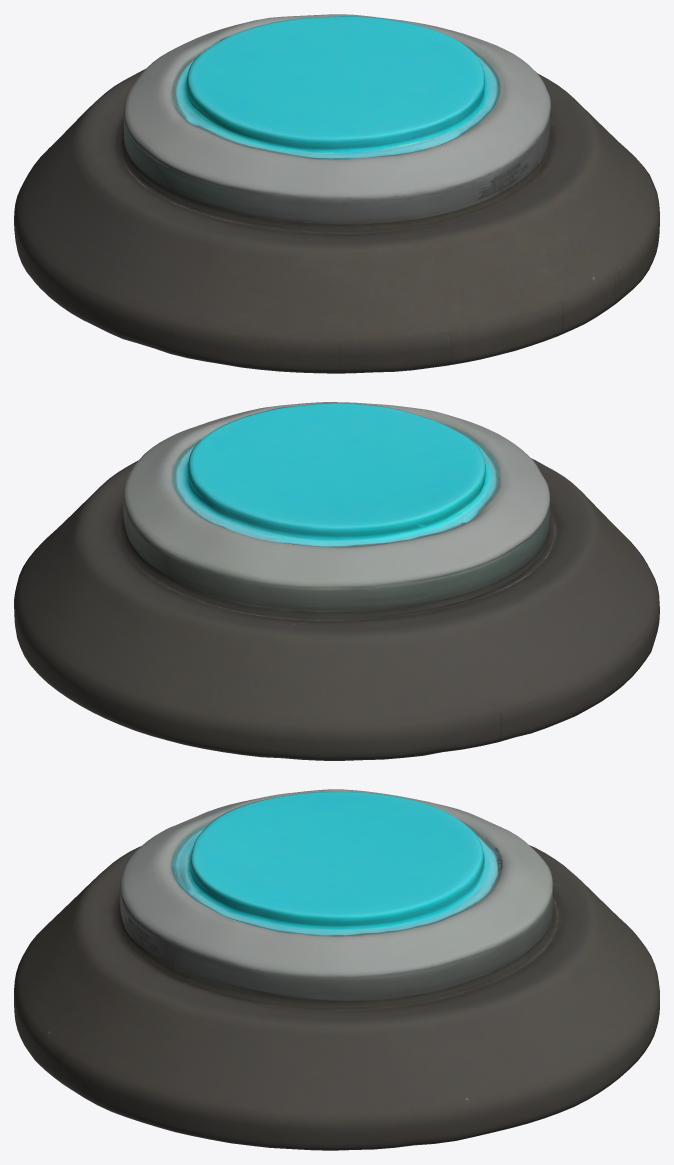
File: Button_0802003048_texture.fbx
3 views of the same model, one above another, from view 1: azimuth 30°, elevation 25°; view 2: azimuth 150°, elevation 25°; view 3: azimuth 270°, elevation 25° (orthographic).
Parts seen in each view (by area): view 1: input; view 2: input; view 3: input.
Boxes of the visible parts, x1,y1,x2,y2 form: input: (14,14,659,373); input: (14,402,659,760); input: (14,789,659,1150).
Size of the model in its own units: 200 by 56.02 by 200.
1 material, 1 textured.
